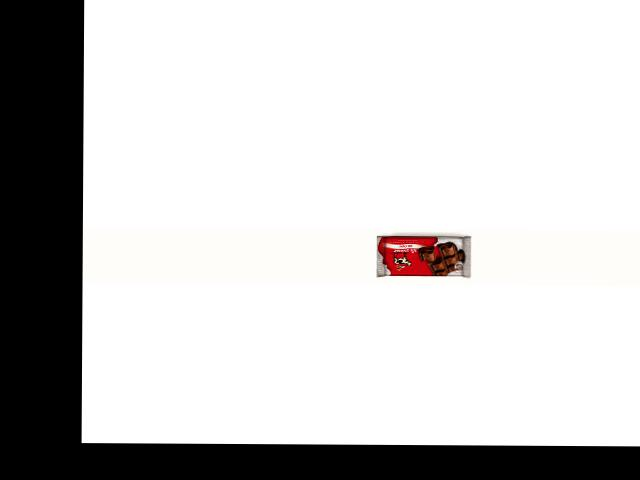chocolate: (360, 213, 472, 271)
